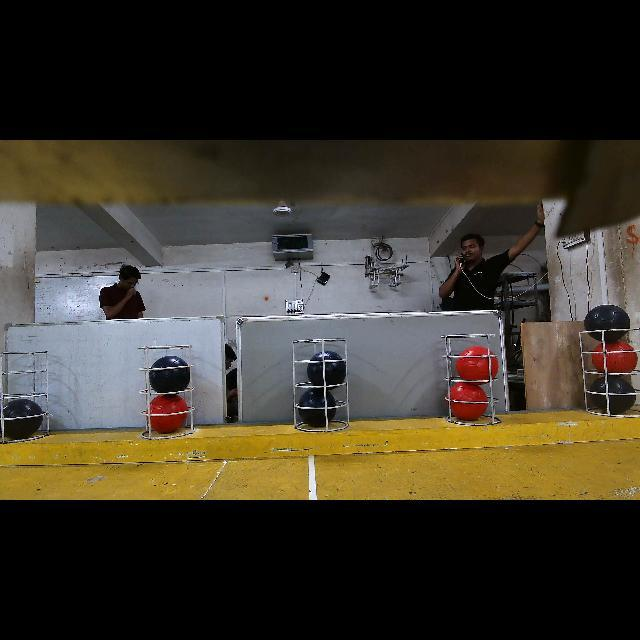P: (3, 399, 43, 440), (590, 376, 635, 412), (587, 306, 628, 344), (298, 388, 337, 426), (308, 351, 347, 389), (151, 357, 189, 396)
R: (149, 394, 190, 433), (593, 339, 636, 375), (449, 383, 487, 421), (457, 347, 498, 382)
S: (136, 340, 202, 446), (298, 337, 354, 433), (444, 332, 498, 426), (582, 324, 638, 414), (0, 348, 48, 438)
